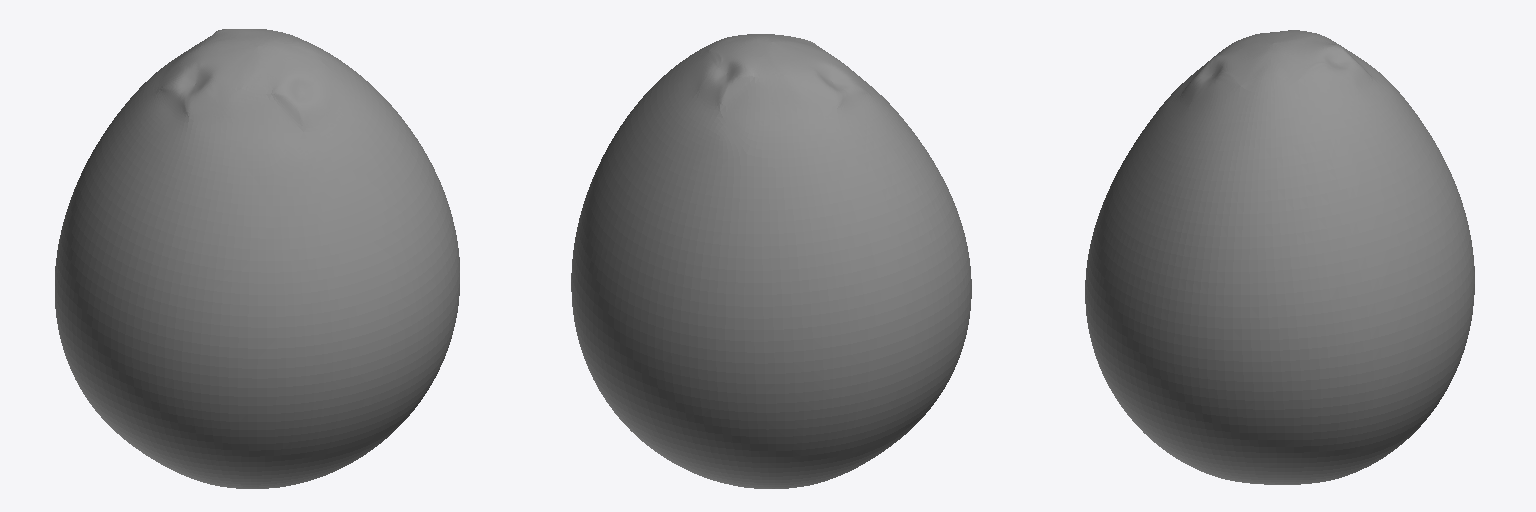
Rendered from coco2.obj.
3 views of the same model, side by side, from view 1: azimuth 30°, elevation 25°; view 2: azimuth 150°, elevation 25°; view 3: azimuth 270°, elevation 25° (orthographic).
Parts seen in each view (by area): view 1: 10175_Coconut_v01; view 2: 10175_Coconut_v01; view 3: 10175_Coconut_v01.
Boxes of the visible parts, box(x1,y1,x2,y2) form: 10175_Coconut_v01: box(55, 29, 459, 488); 10175_Coconut_v01: box(571, 34, 971, 488); 10175_Coconut_v01: box(1085, 30, 1474, 484).
Size of the model in its own units: 18.24 by 21.05 by 17.49.